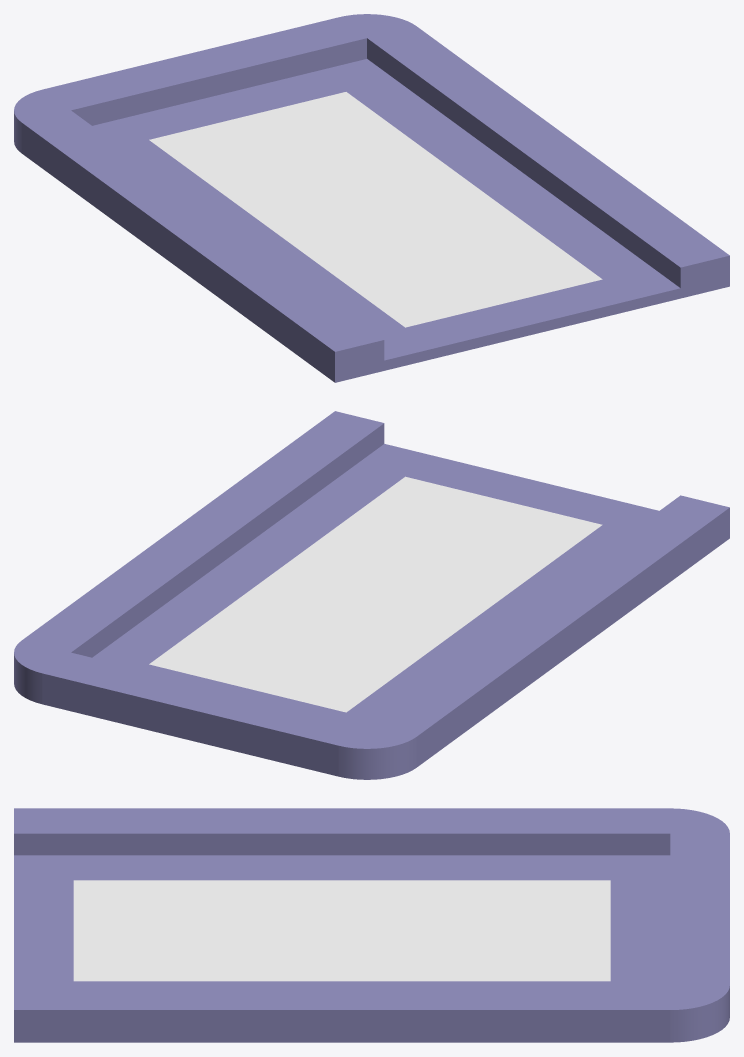
The model's file is SingleCard.fbx.
The picture shows the model from 3 angles, top to bottom: view 1: azimuth 30°, elevation 25°; view 2: azimuth 150°, elevation 25°; view 3: azimuth 270°, elevation 25°; orthographic projection. The views are drawn at different scales.
Parts seen in each view (by area): view 1: window_door; view 2: window_door; view 3: window_door.
Part boxes in pixels (left/top/right/bottom): window_door: left=14, top=14, right=729, bottom=382; window_door: left=14, top=411, right=729, bottom=779; window_door: left=14, top=808, right=729, bottom=1042.
Size of the model in its own units: 4 by 0.3 by 6.
